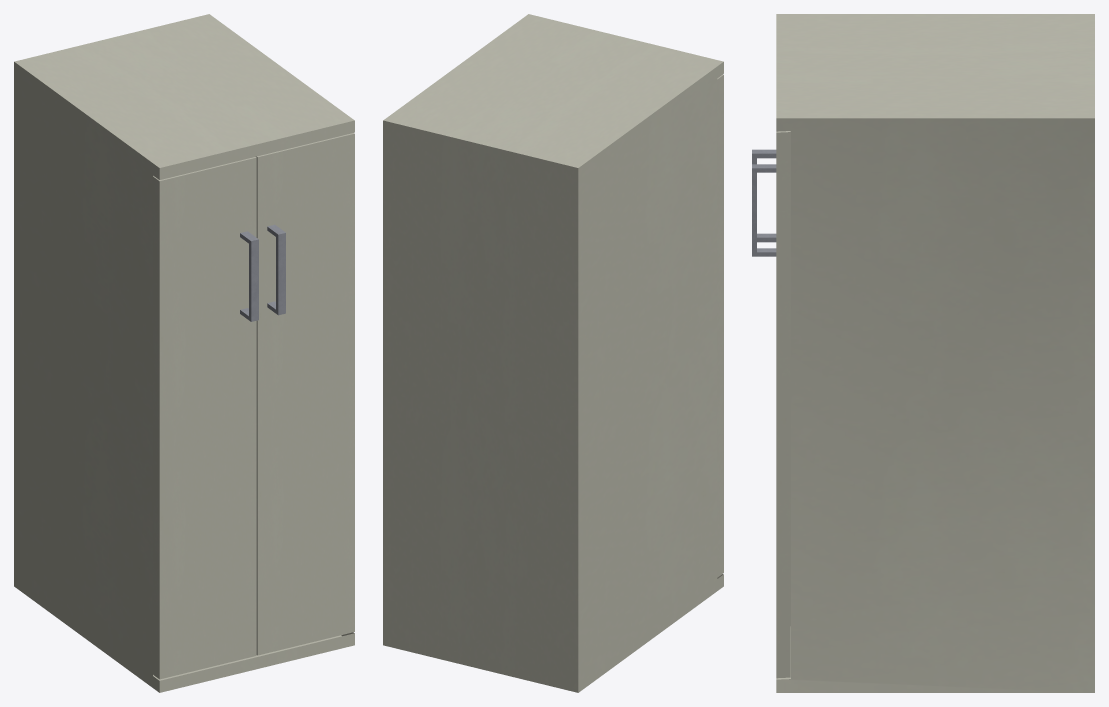
Rendered from LGSeocho25OfficeCabinetDeep.fbx.
3 renders of one model, left to right at view 1: azimuth 30°, elevation 25°; view 2: azimuth 150°, elevation 25°; view 3: azimuth 270°, elevation 25°, orthographic. The views are drawn at different scales.
Parts seen in each view (by area): view 1: LGSeocho25Plastic, LGSeocho25Metal; view 2: LGSeocho25Plastic; view 3: LGSeocho25Plastic, LGSeocho25Metal.
Boxes of the visible parts, x1,y1,x2,y2 form: LGSeocho25Plastic: (14, 14, 354, 692); LGSeocho25Metal: (240, 224, 285, 321); LGSeocho25Plastic: (383, 14, 723, 692); LGSeocho25Plastic: (776, 14, 1094, 692); LGSeocho25Metal: (752, 149, 776, 256).
Bounding box in the file's own units: 50.61 × 130 × 70.31.
